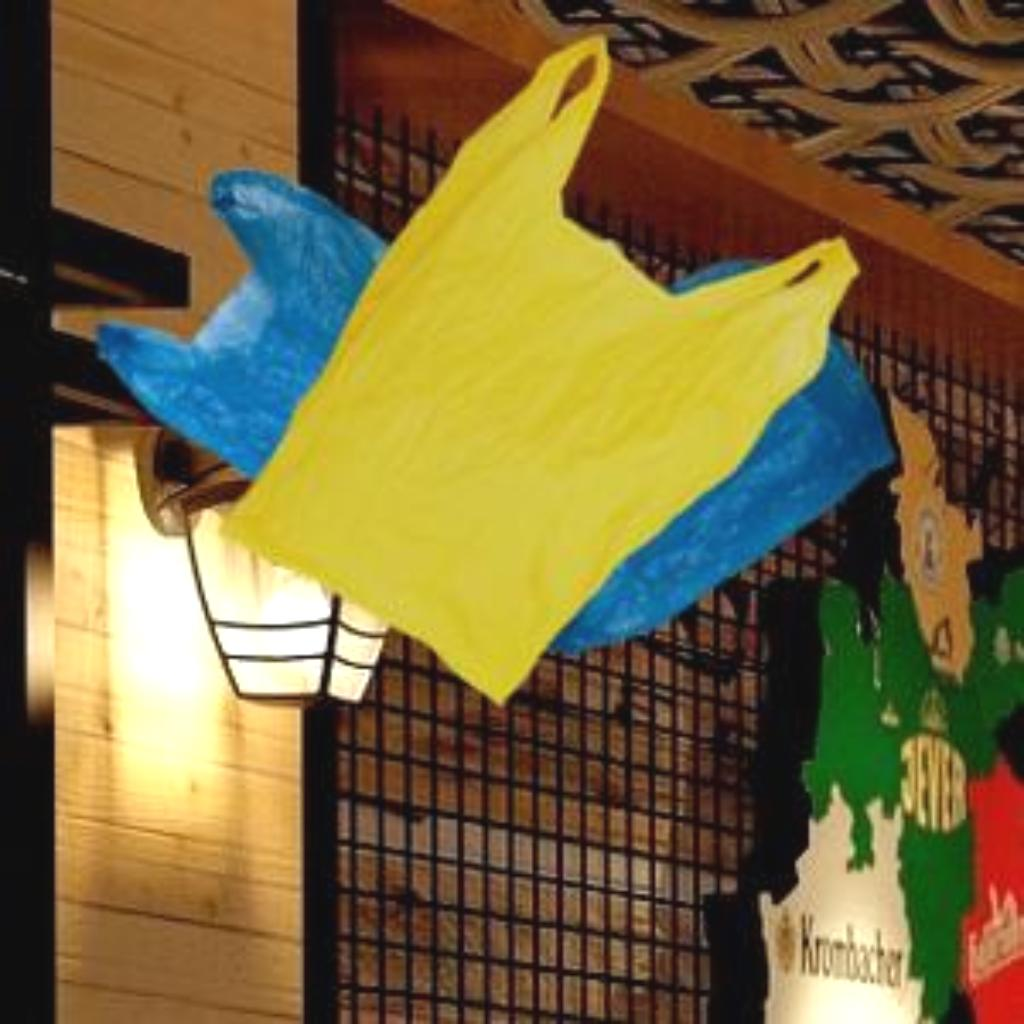garbage: (276, 41, 847, 724), (77, 133, 442, 481), (582, 256, 893, 659)
